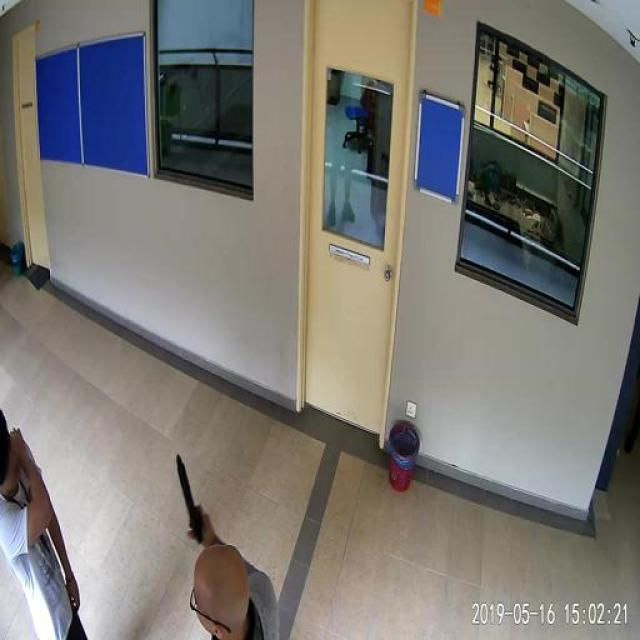Gun: (164, 448, 203, 537)
